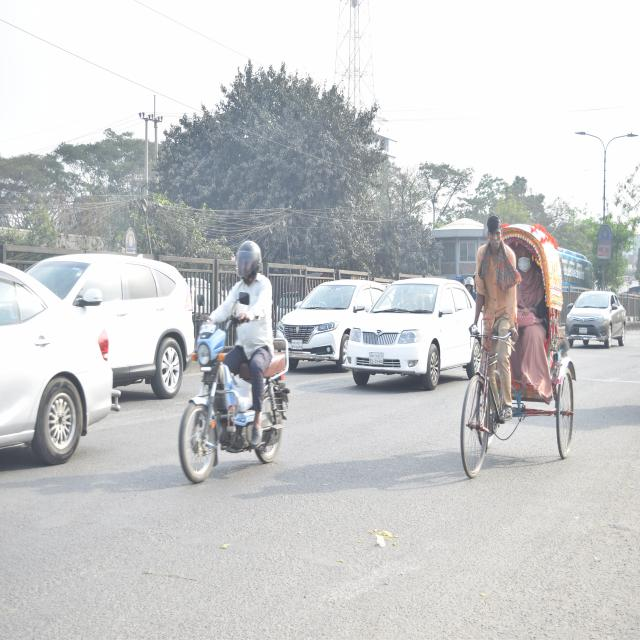car: (59, 241, 199, 408), (0, 258, 113, 455), (350, 266, 472, 392), (282, 267, 357, 373), (567, 283, 627, 362)
motorbike: (174, 303, 296, 495)
